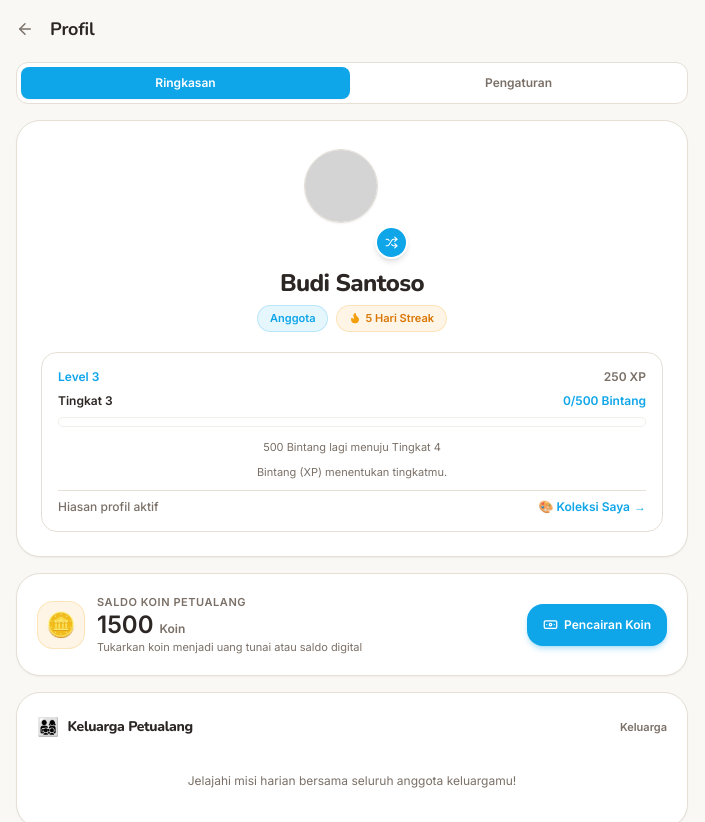
Test: ProfilePage › Member / Seeker Role View › validates password mismatch and current == new in profile settings
The width and height of the screenshot is (705, 822).
Click the button "Pengaturan": (518, 83) left=354, top=67, right=683, bottom=99
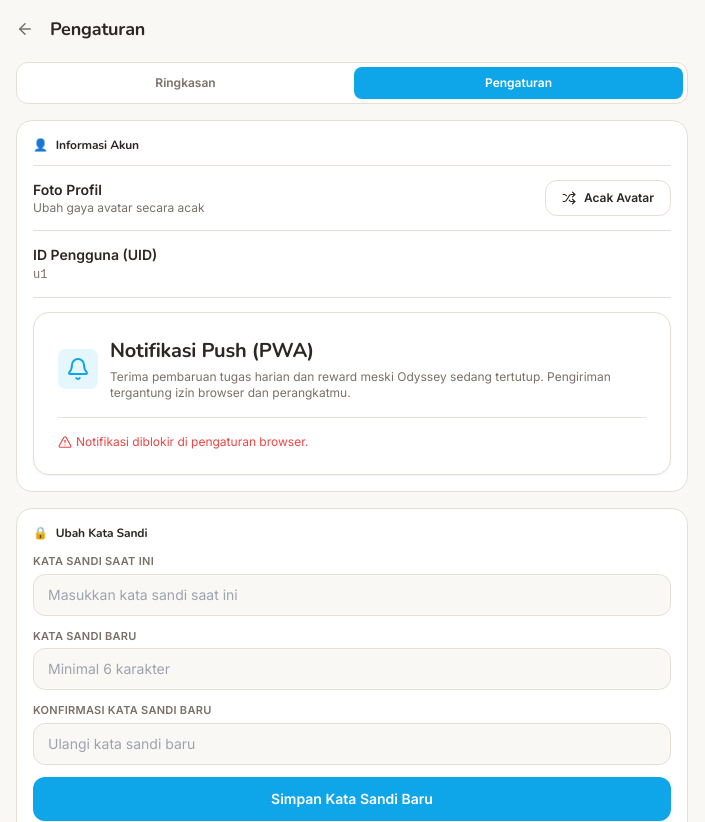
# Same current and new
In the password field with placeholder "Masukkan kata sandi saat ini": (352, 594) left=33, top=574, right=671, bottom=616, type "samePass123"
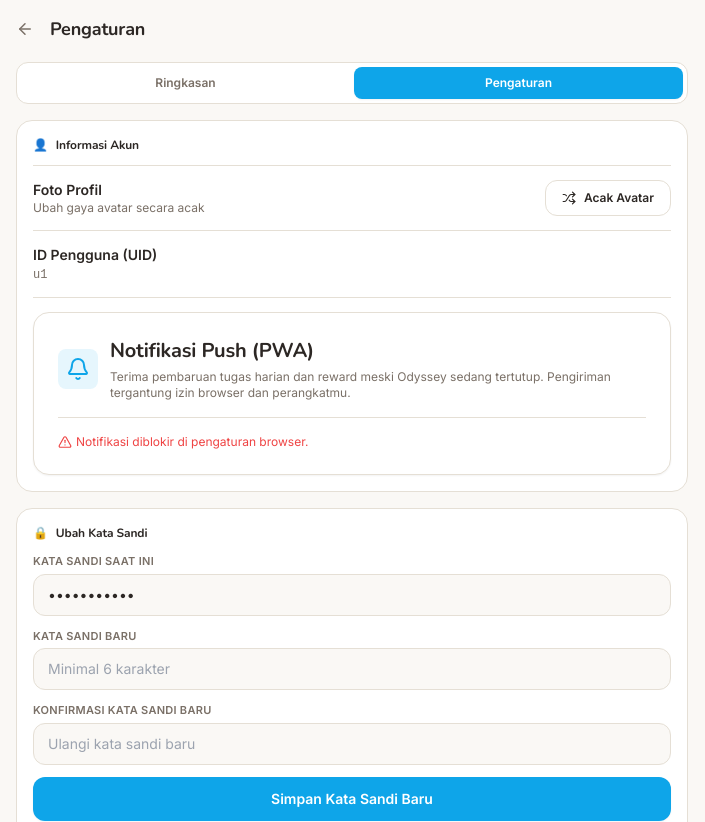
In the password field with placeholder "Minimal 6 karakter": (352, 669) left=33, top=648, right=671, bottom=690, type "samePass123"
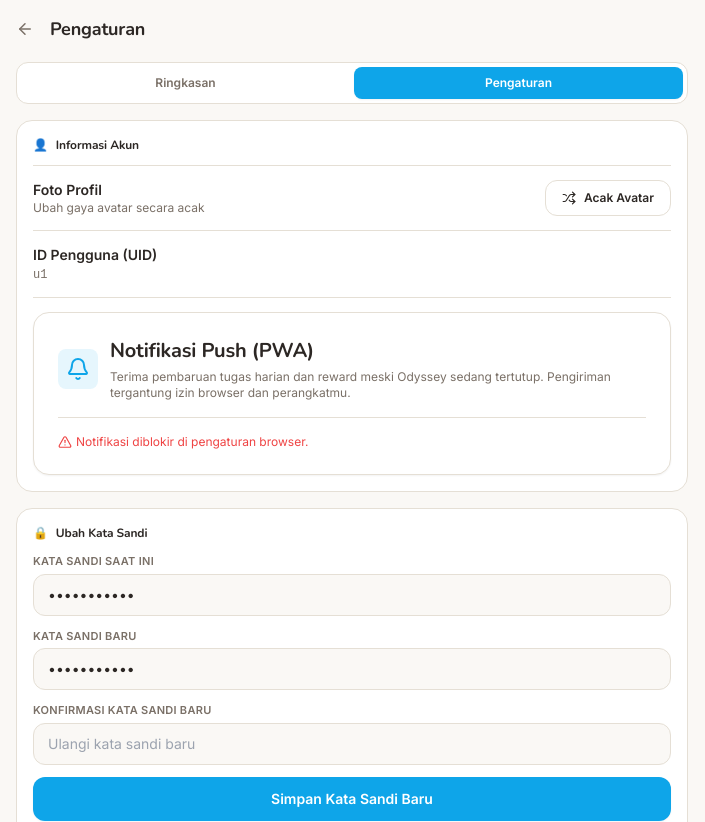
In the password field with placeholder "Ulangi kata sandi baru": (352, 744) left=33, top=722, right=671, bottom=764, type "samePass123"
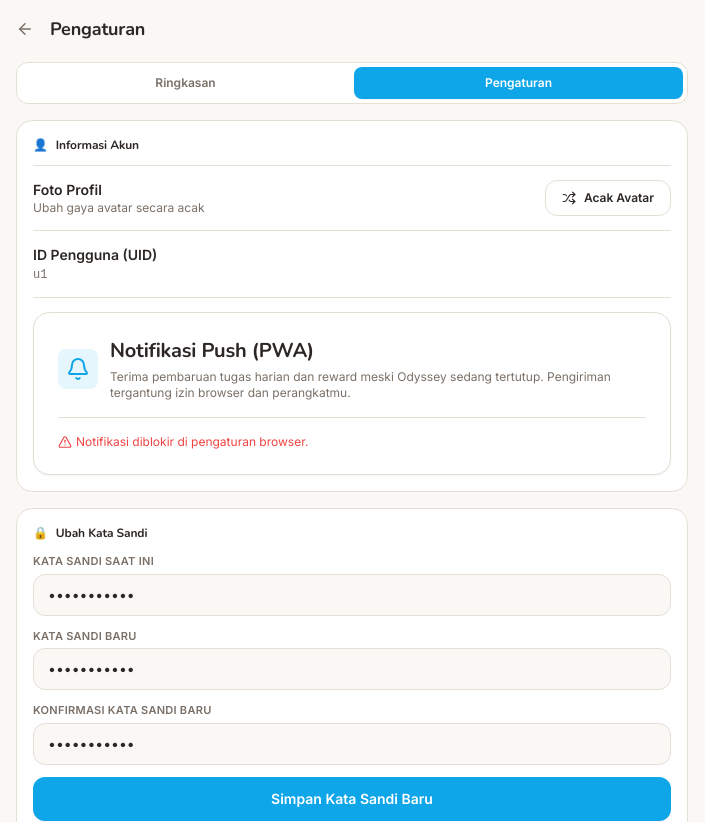
Click the button "Simpan Kata Sandi Baru": (352, 798) left=33, top=776, right=671, bottom=820
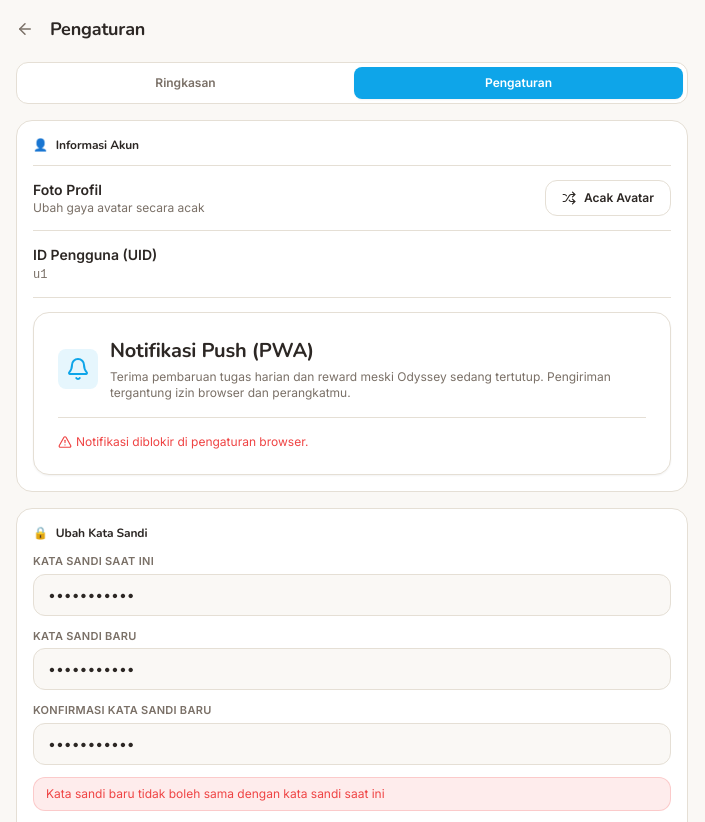
Check: the text "Kata sandi baru tidak boleh sama dengan kata sandi saat ini" is shown, box left=33, top=776, right=671, bottom=810
